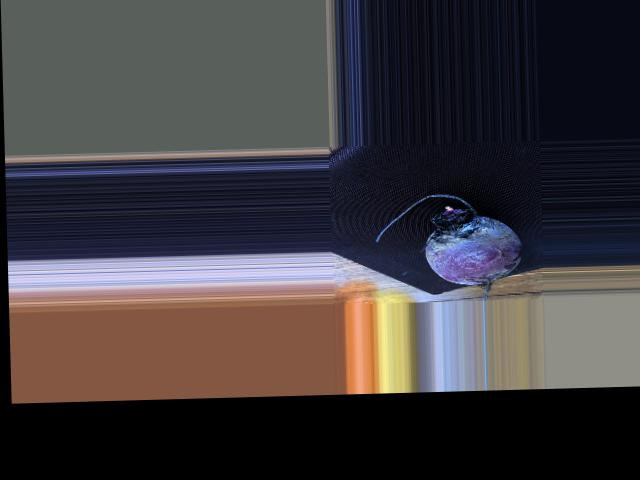beet: (374, 191, 524, 303)
